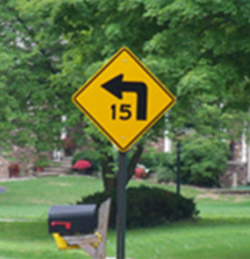left: (71, 45, 178, 154)
